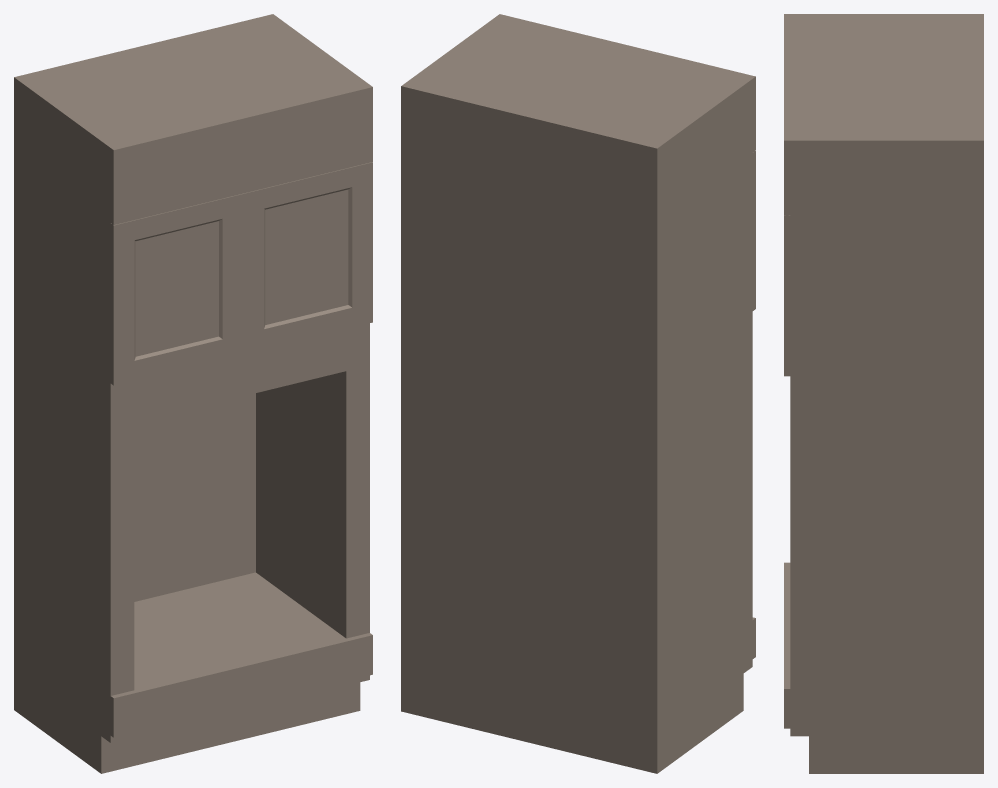
File: WHP-Double-Tall-Oven-Cabinet_std_001_W36in.glb
3 renders of one model, left to right at view 1: azimuth 30°, elevation 25°; view 2: azimuth 150°, elevation 25°; view 3: azimuth 270°, elevation 25°, orthographic.
Visible parts, largest first — view 1: WHP-Double-Tall-Oven-Cabinet.std.001_W36in; view 2: WHP-Double-Tall-Oven-Cabinet.std.001_W36in; view 3: WHP-Double-Tall-Oven-Cabinet.std.001_W36in.
Boxes of the visible parts, x1=… form: WHP-Double-Tall-Oven-Cabinet.std.001_W36in: x1=14, y1=14, x2=372, y2=773; WHP-Double-Tall-Oven-Cabinet.std.001_W36in: x1=401, y1=14, x2=755, y2=773; WHP-Double-Tall-Oven-Cabinet.std.001_W36in: x1=784, y1=14, x2=983, y2=773.
Bounding box in the file's own units: 0.9144 × 2.13 × 0.6096.
